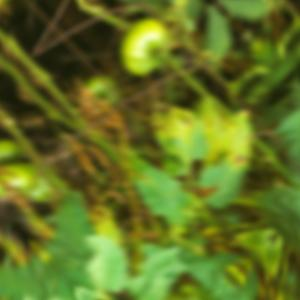Tomato Early blight leaf: (112, 144, 204, 237), (130, 88, 219, 176), (189, 143, 259, 213)
